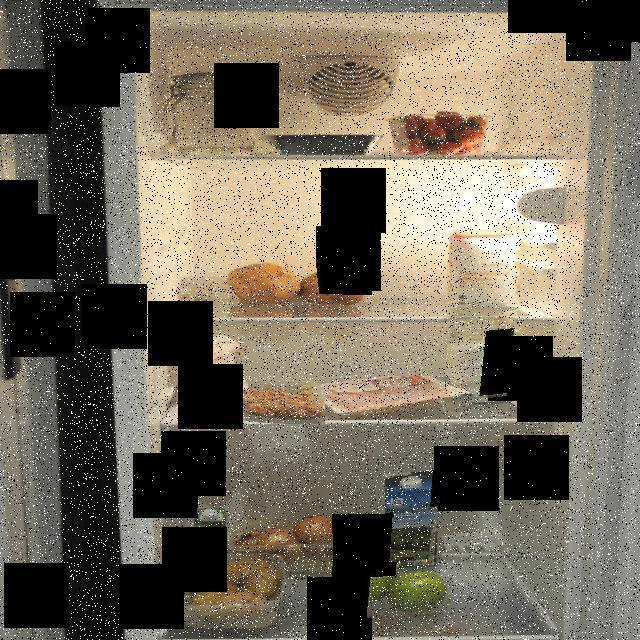apple: (342, 562, 454, 620)
flour: (148, 62, 266, 156), (165, 334, 244, 412)
ham: (314, 376, 474, 416)
heavy_cream: (194, 508, 228, 572)
milk: (386, 472, 442, 576)
onion: (226, 516, 348, 572)
potato: (185, 554, 285, 624)
shrimp: (239, 384, 325, 424)
strawberries: (386, 112, 490, 153)
sugar: (444, 317, 516, 403), (446, 230, 520, 310)
sweet_potato: (220, 260, 372, 306)
